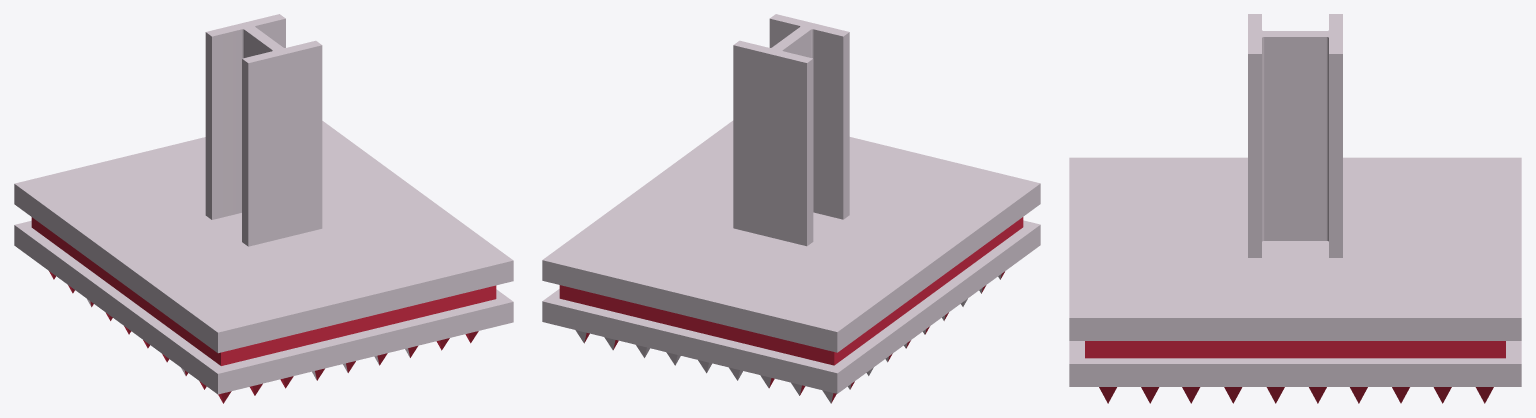
Rendered from Presse_Pic.FBX.
3 renders of one model, left to right at view 1: azimuth 30°, elevation 25°; view 2: azimuth 150°, elevation 25°; view 3: azimuth 270°, elevation 25°, orthographic. The views are drawn at different scales.
Visible parts, largest first — view 1: Presse_Pic; view 2: Presse_Pic; view 3: Presse_Pic.
Boxes of the visible parts, box(x1,y1,x2,y2) form: Presse_Pic: box(14, 14, 513, 403); Presse_Pic: box(542, 14, 1040, 403); Presse_Pic: box(1069, 14, 1521, 403).
Bounding box in the file's own units: 2 × 1.77 × 2.39.
